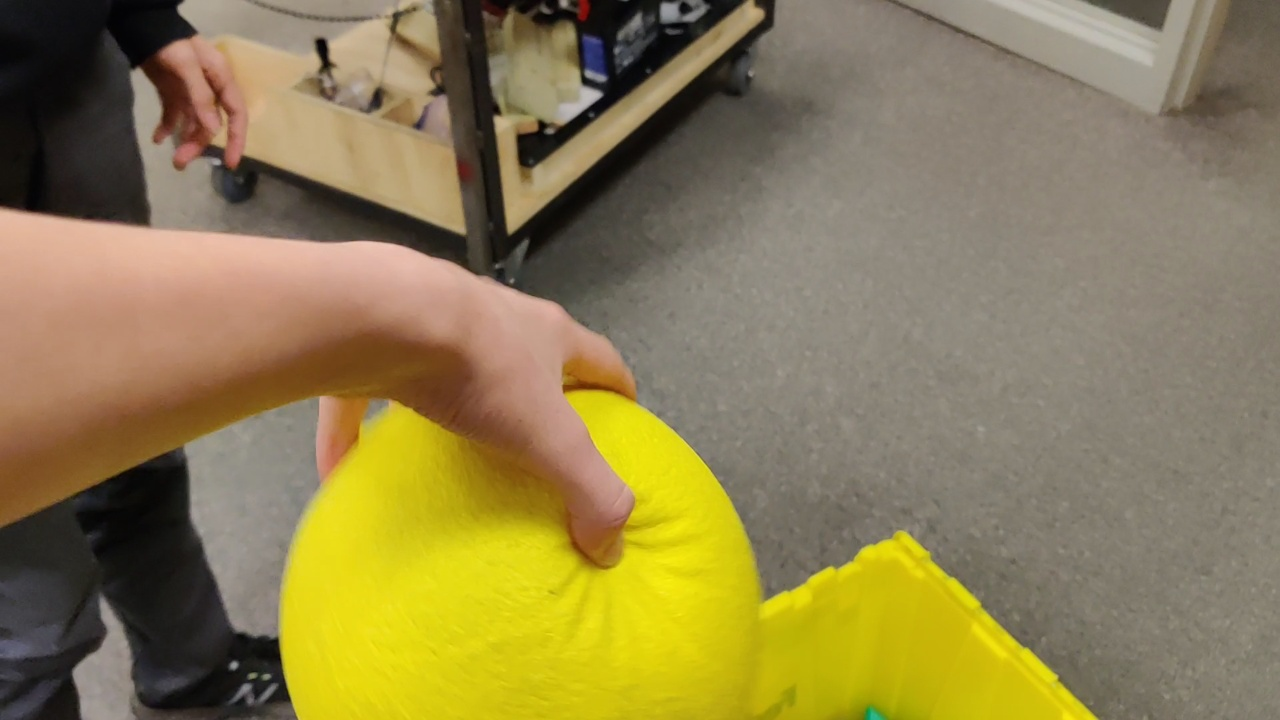Ball: (279, 368, 761, 720)
